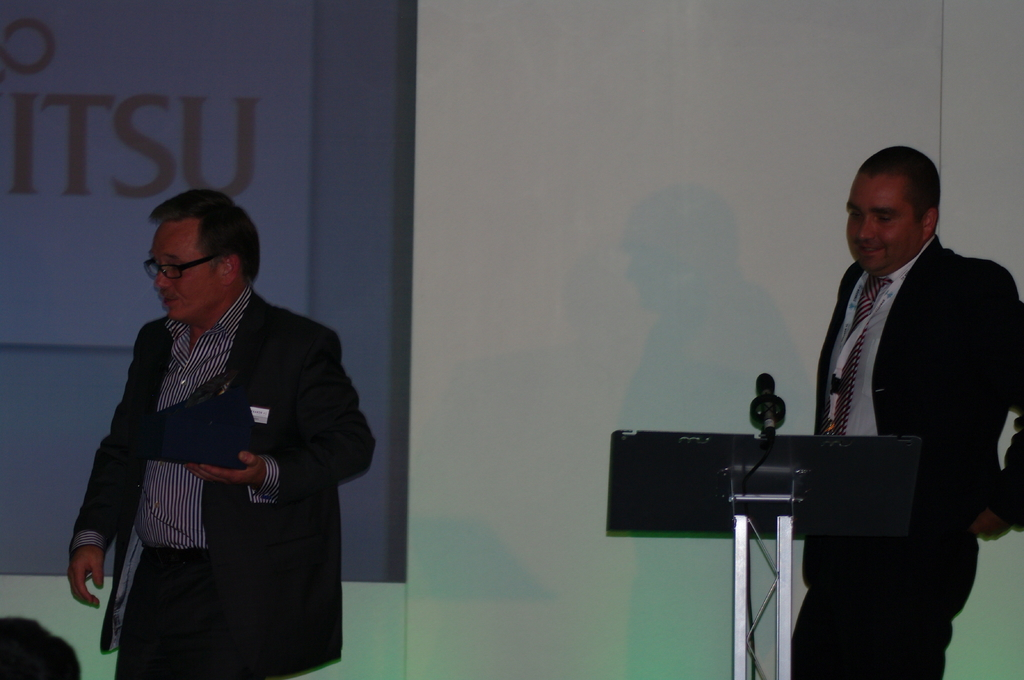face: (150, 219, 217, 320)
